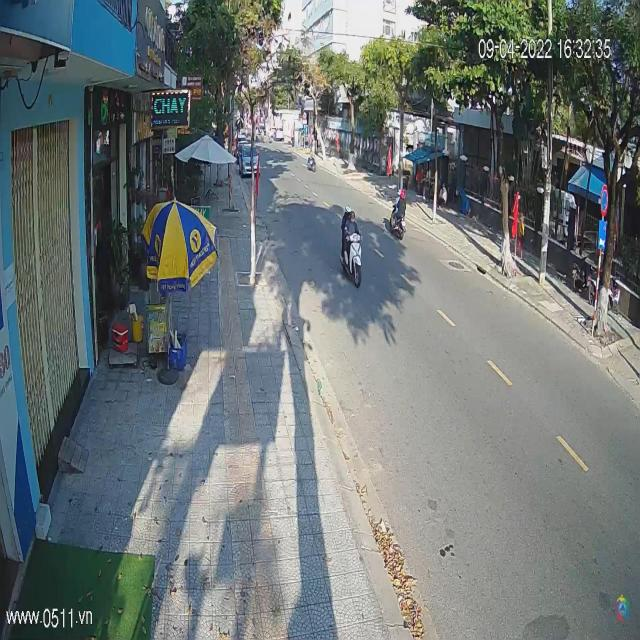motorcycle: (342, 230, 364, 293), (389, 197, 407, 244), (306, 156, 316, 172)
